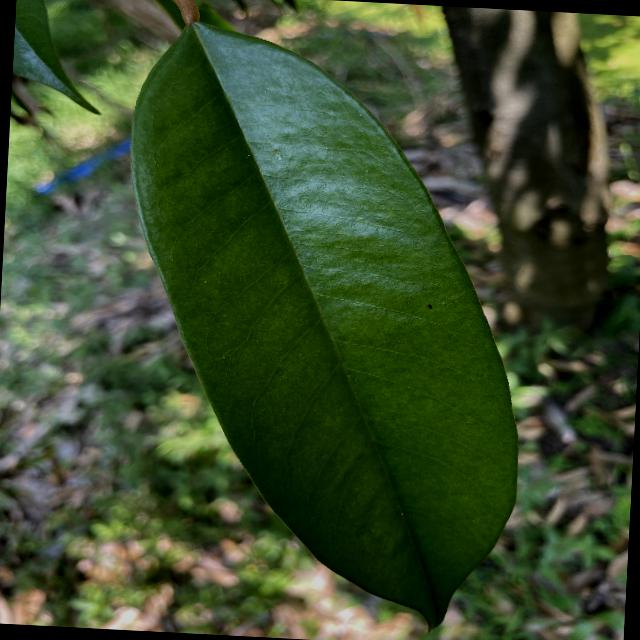No Disease: (99, 11, 553, 639)
